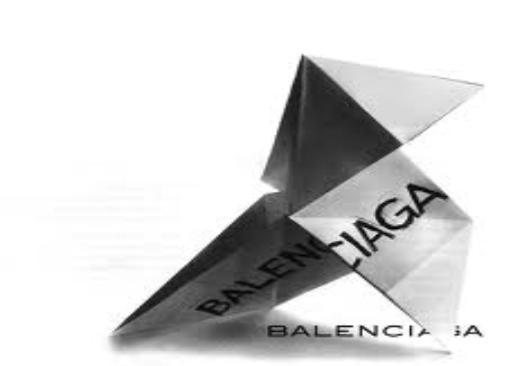BALENCIAGA: (267, 325, 492, 339)
